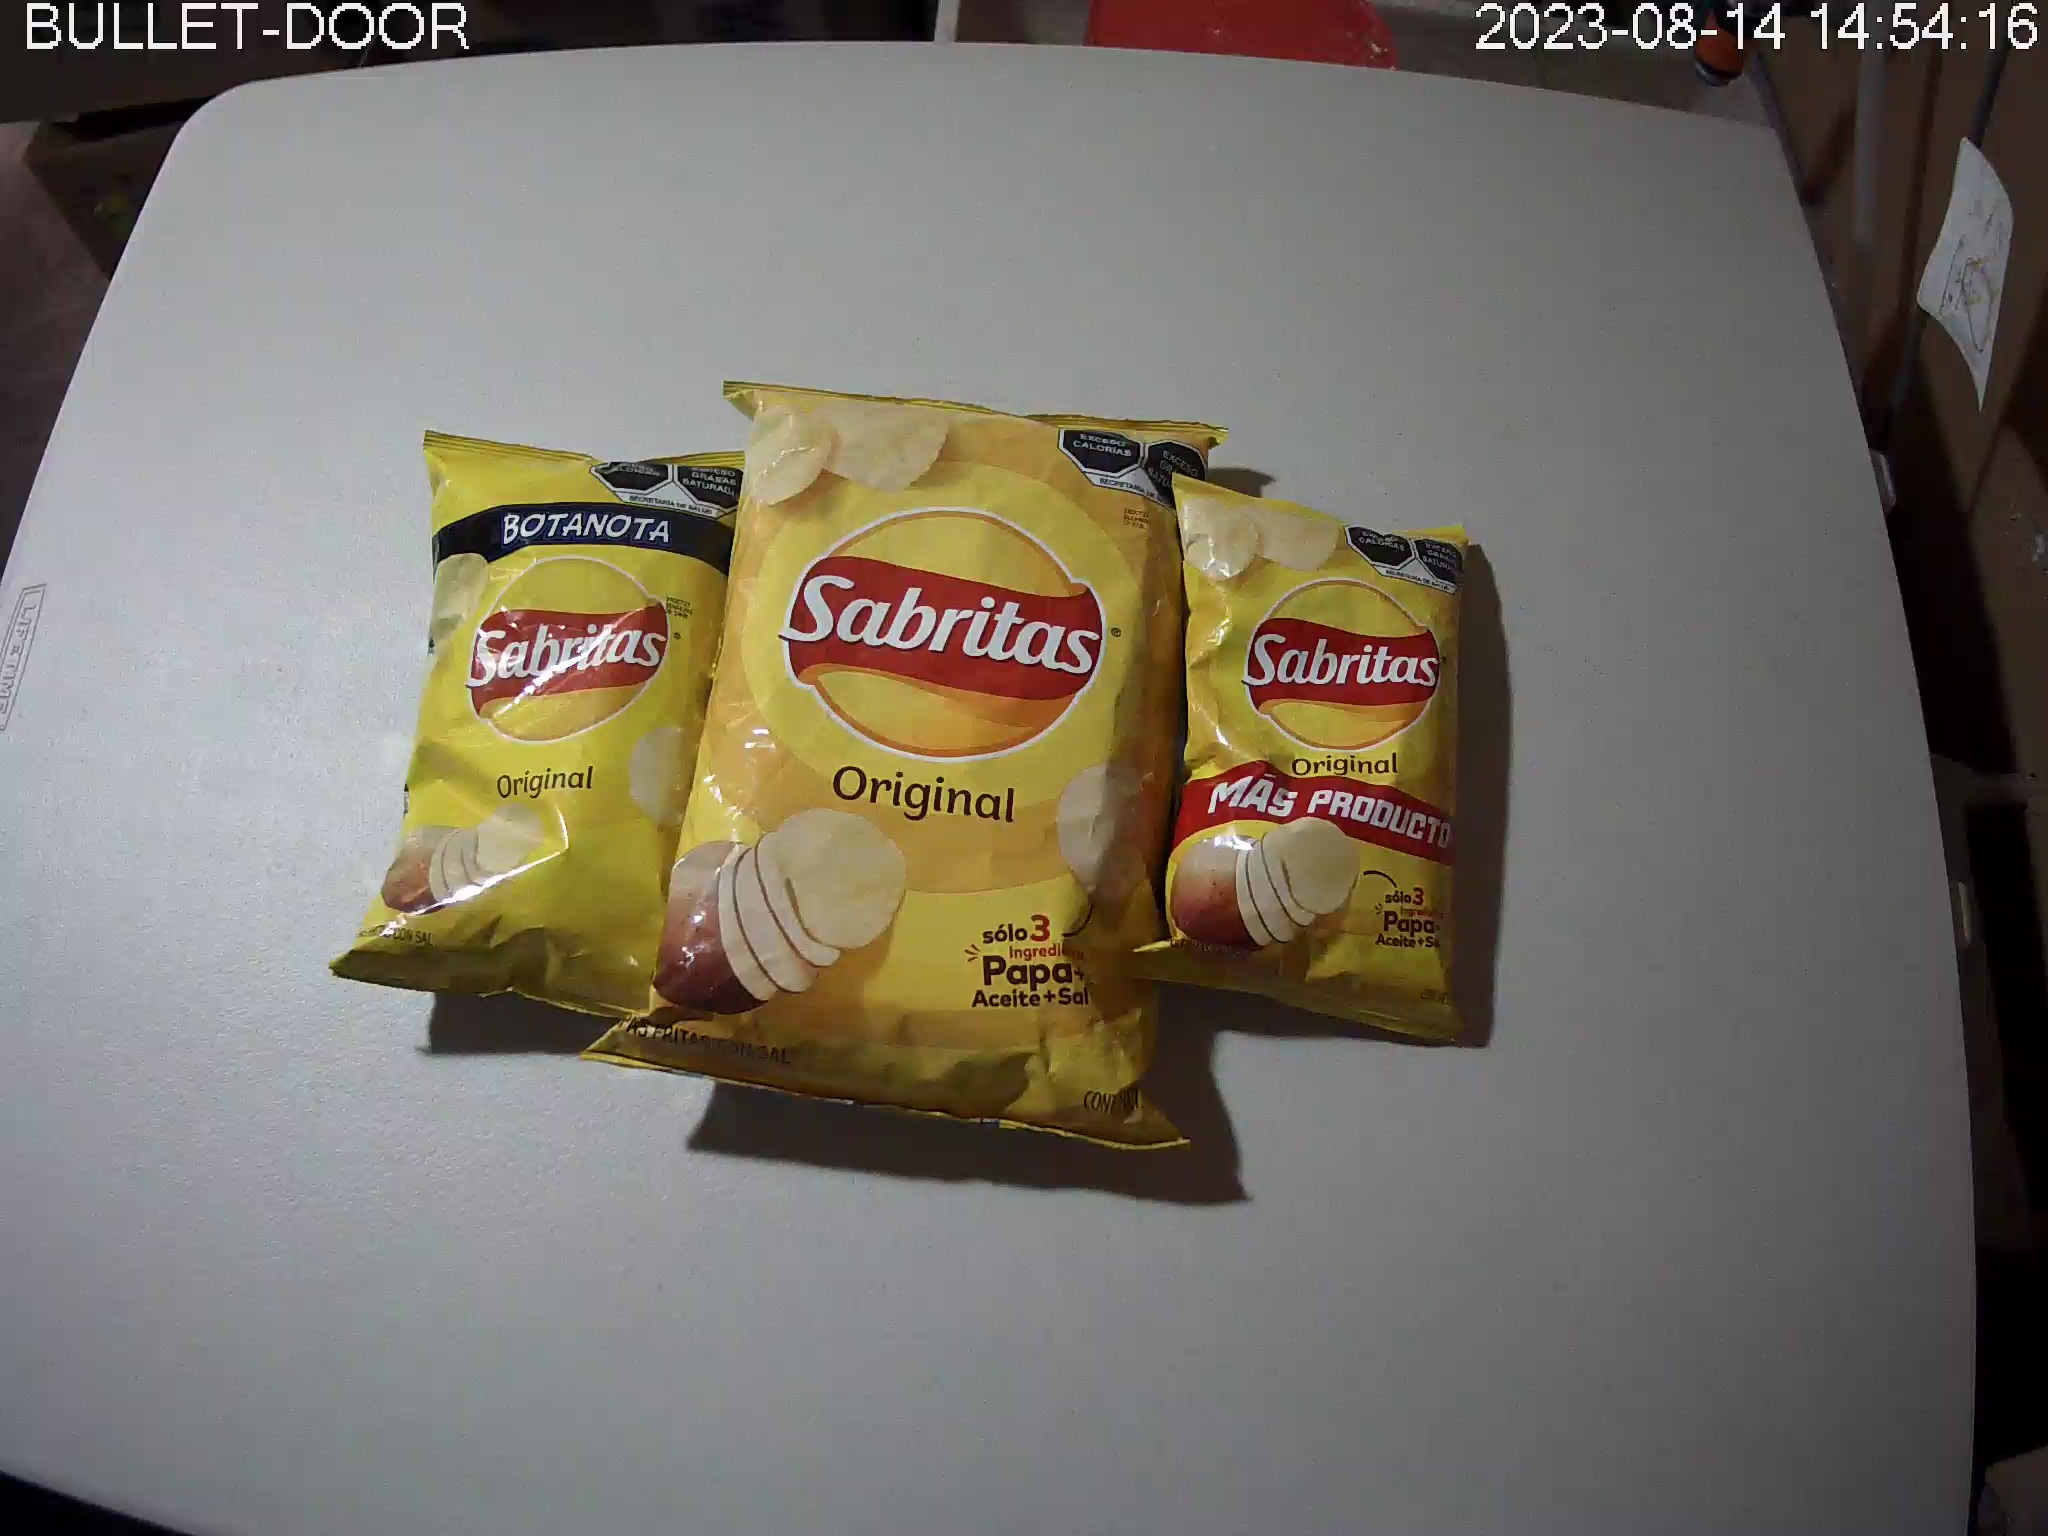Sabritas_160_F: (577, 378, 1235, 1157)
Sabritas_45_F: (1127, 473, 1472, 1046)
Sabritas_64_F: (332, 428, 784, 1025)
